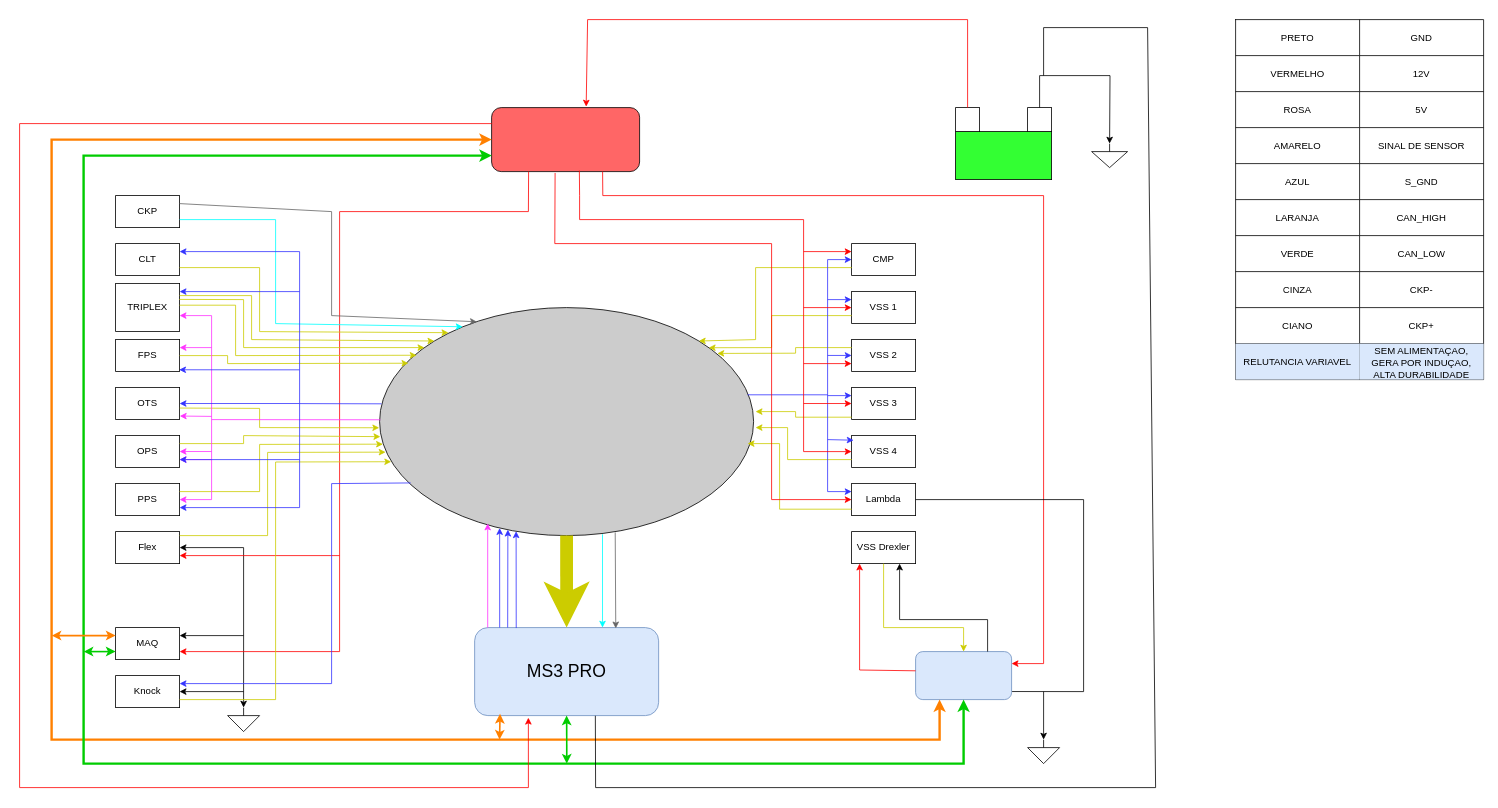
This 1498x808 diagram has some shape labels left out. Each missing label, with the centre of its shape:
"AIM EVO 4" belongs at (963,675).
"BATERIA" belongs at (1003,155).
"Cirucular Sensores Vitais" belongs at (566,421).
"PDM" belongs at (565,139).
